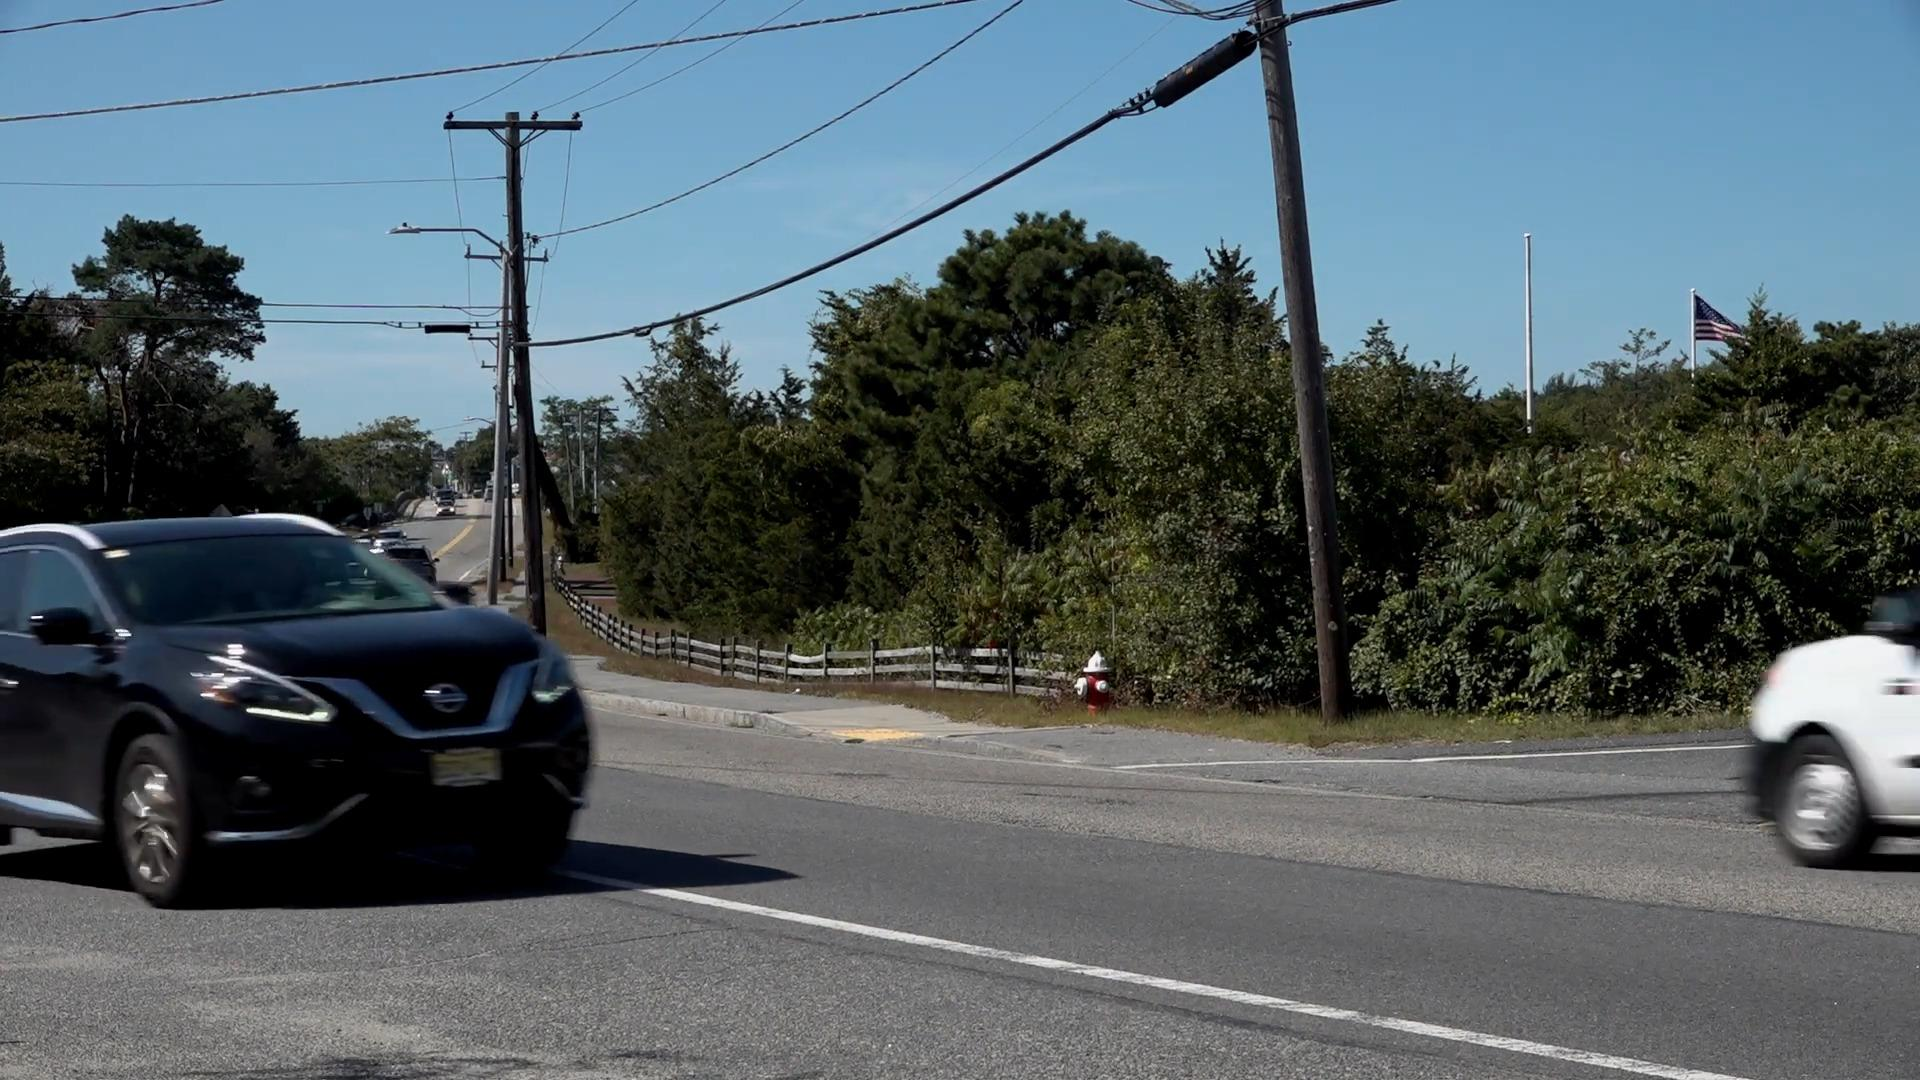suv: (0, 521, 596, 895)
